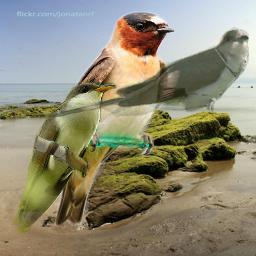Cuckoo: (41, 27, 249, 122), (12, 81, 117, 234)
Swallow: (24, 11, 175, 227)
